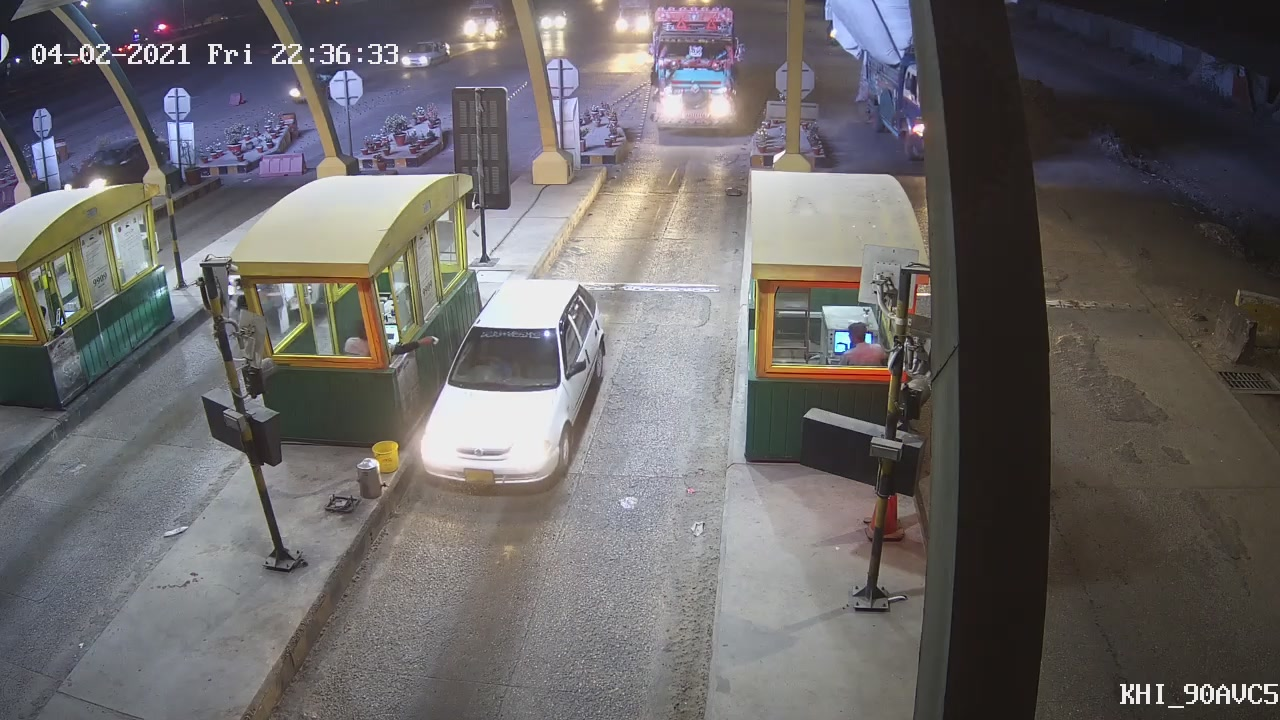F1: (413, 279, 603, 497)
